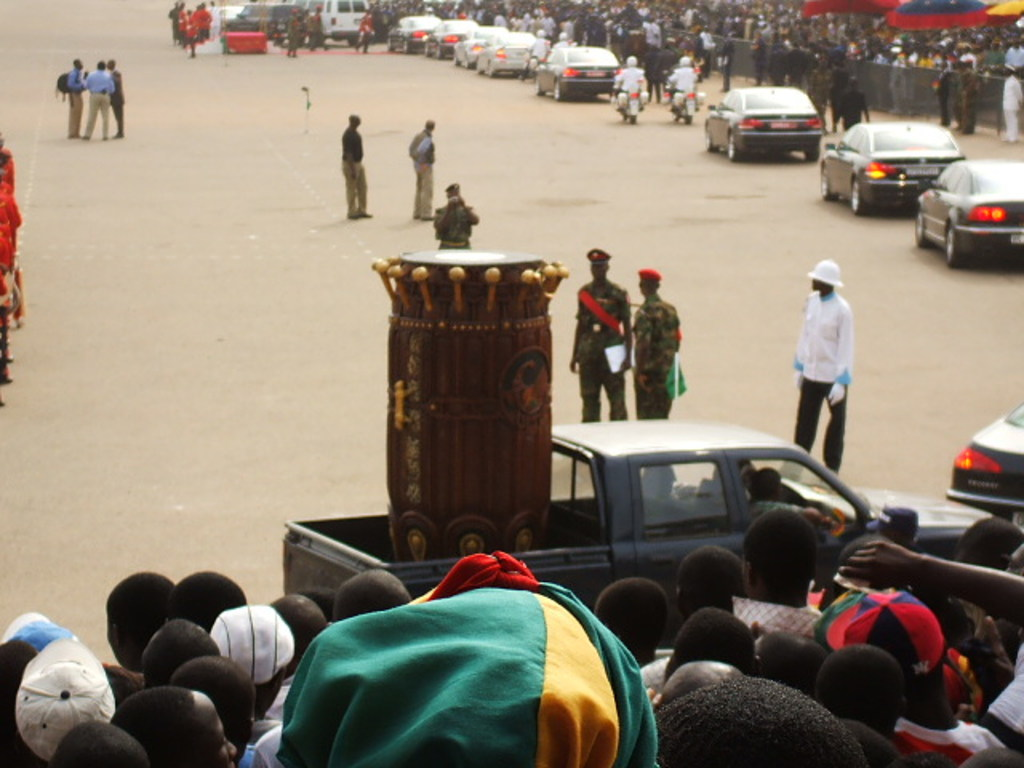Car: (816, 121, 961, 214), (915, 159, 1022, 270), (697, 87, 822, 163), (945, 409, 1022, 513), (529, 48, 620, 108), (300, 0, 376, 44), (446, 25, 502, 73), (227, 3, 289, 46), (414, 22, 480, 59), (384, 14, 438, 59), (480, 38, 536, 78)
